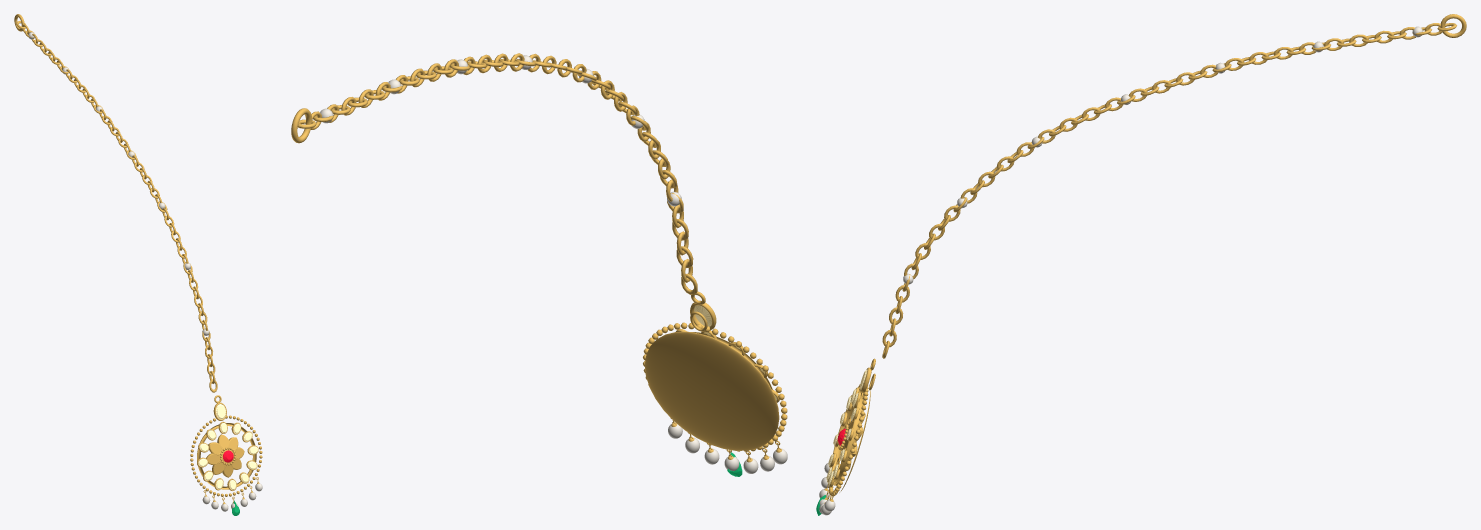
Rendered from tikka-kundan.glb.
3 views of the same model, side by side, from view 1: azimuth 30°, elevation 25°; view 2: azimuth 150°, elevation 25°; view 3: azimuth 270°, elevation 25° (orthographic). The views are drawn at different scales.
Visible parts, largest first — view 1: tikka-kundan_gold22k, tikka-kundan_kundan, tikka-kundan_pearl; view 2: tikka-kundan_gold22k, tikka-kundan_pearl; view 3: tikka-kundan_gold22k, tikka-kundan_pearl.
Part boxes in pixels (<box>): tikka-kundan_gold22k: <box>14,14,262,504</box>; tikka-kundan_kundan: <box>198,404,258,490</box>; tikka-kundan_pearl: <box>28,32,262,511</box>; tikka-kundan_gold22k: <box>291,53,787,462</box>; tikka-kundan_pearl: <box>320,55,787,473</box>; tikka-kundan_gold22k: <box>824,14,1466,503</box>; tikka-kundan_pearl: <box>819,26,1422,515</box>.
Bounding box in the file's own units: 1.54 × 7.11 × 8.36.
